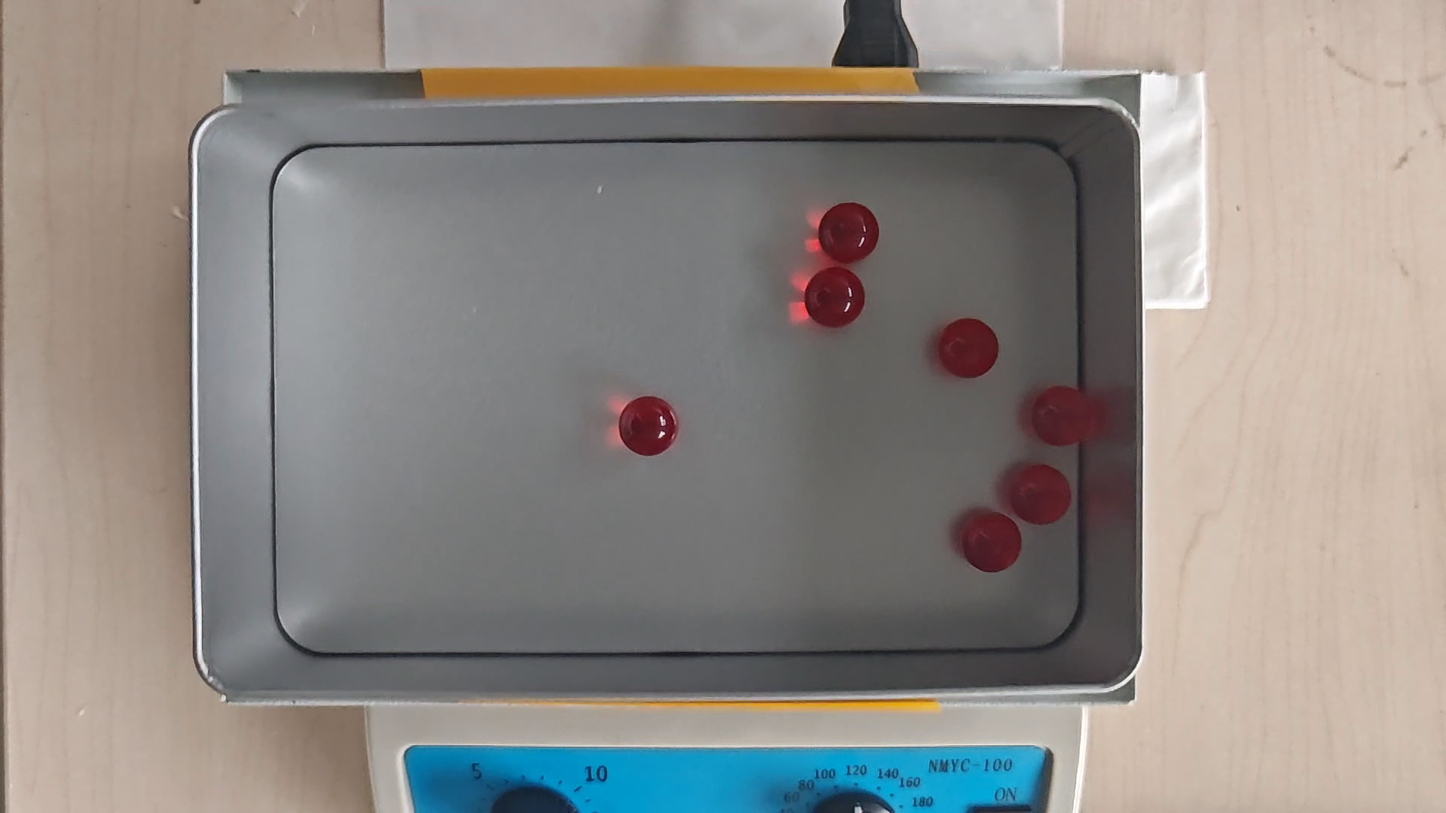ball: (1009, 464, 1072, 525), (619, 394, 679, 458), (804, 266, 865, 328), (819, 202, 879, 264), (1033, 386, 1093, 448), (963, 512, 1023, 574), (939, 318, 999, 379)
container: (267, 141, 1082, 657)
